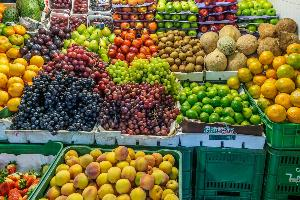apple: (157, 2, 199, 36), (236, 2, 280, 32), (116, 0, 154, 32), (200, 2, 238, 32), (225, 12, 237, 20), (157, 2, 166, 12), (165, 4, 175, 13), (181, 1, 190, 11), (240, 2, 250, 11), (148, 21, 157, 30), (190, 4, 199, 13), (134, 21, 144, 29), (199, 8, 209, 16), (209, 23, 219, 31), (267, 8, 277, 16), (213, 5, 224, 12), (251, 9, 262, 16), (148, 2, 156, 11), (113, 12, 122, 20), (174, 3, 182, 12), (199, 24, 208, 32), (138, 6, 148, 13), (129, 13, 139, 20), (155, 13, 165, 20), (263, 1, 273, 8), (270, 18, 280, 25), (247, 24, 257, 31), (128, 28, 137, 35), (188, 14, 197, 21), (165, 21, 174, 28), (216, 13, 225, 20), (120, 22, 130, 28), (171, 14, 181, 20), (204, 0, 216, 5), (229, 4, 239, 10), (206, 15, 216, 21), (188, 0, 196, 7), (157, 21, 165, 28), (190, 21, 198, 28), (255, 2, 263, 9), (258, 8, 266, 15), (253, 18, 264, 23), (145, 13, 154, 19), (114, 28, 123, 34), (141, 28, 150, 34), (181, 22, 190, 28), (188, 30, 197, 36), (156, 29, 165, 35), (229, 22, 238, 28), (122, 7, 132, 12), (248, 1, 255, 8), (180, 14, 188, 20), (164, 14, 172, 20), (243, 9, 251, 15), (128, 0, 137, 5), (198, 16, 205, 22), (219, 23, 226, 29), (236, 9, 242, 16), (120, 0, 128, 5), (180, 29, 188, 34), (137, 0, 146, 4), (143, 21, 149, 27), (259, 0, 268, 4), (244, 19, 253, 23), (122, 14, 129, 19), (174, 22, 181, 27), (112, 0, 120, 4), (114, 7, 122, 11), (251, 0, 259, 4), (132, 7, 138, 12), (139, 14, 145, 19), (130, 21, 135, 27), (264, 7, 270, 12), (114, 22, 121, 26), (224, 5, 229, 10), (237, 1, 242, 6), (150, 30, 156, 34), (166, 1, 172, 5), (217, 0, 227, 2), (227, 0, 237, 2), (208, 8, 213, 12), (250, 8, 255, 12), (195, 0, 204, 2), (241, 0, 247, 3), (146, 0, 154, 2), (138, 30, 141, 34), (264, 19, 268, 22)
apricot: (41, 144, 184, 200), (85, 162, 100, 180), (98, 184, 114, 200), (55, 170, 70, 187), (121, 166, 136, 182), (115, 179, 131, 194), (73, 173, 88, 189), (107, 167, 121, 184), (151, 170, 166, 185), (140, 174, 154, 190), (82, 186, 98, 200), (115, 146, 129, 161), (79, 154, 93, 169), (165, 180, 179, 195), (149, 185, 163, 200), (46, 186, 61, 200), (60, 183, 76, 196), (134, 157, 148, 171), (68, 165, 82, 179), (97, 173, 110, 188), (130, 188, 146, 200), (159, 161, 172, 174), (99, 161, 112, 174), (134, 172, 146, 186), (55, 164, 69, 175), (64, 150, 78, 161), (163, 154, 175, 166), (106, 152, 118, 164), (90, 149, 102, 161), (168, 167, 179, 180), (152, 153, 163, 166), (144, 155, 155, 168), (161, 189, 174, 200), (116, 161, 129, 171), (66, 157, 79, 167), (66, 193, 83, 200), (134, 151, 146, 160), (87, 182, 99, 191), (111, 184, 120, 195), (50, 176, 58, 188), (164, 194, 179, 200), (102, 194, 117, 200), (128, 148, 135, 160), (117, 194, 131, 200), (144, 166, 153, 175), (96, 155, 106, 163), (127, 187, 134, 196), (55, 196, 67, 200), (130, 180, 136, 188), (76, 190, 83, 195), (88, 178, 93, 184), (82, 167, 86, 174), (69, 180, 74, 184)
grape: (24, 57, 106, 133), (112, 58, 174, 134)
grapes: (146, 57, 179, 99), (149, 108, 179, 136), (64, 45, 95, 66), (42, 105, 65, 132), (44, 53, 72, 75), (68, 109, 96, 131), (137, 82, 160, 108), (128, 58, 150, 84), (133, 108, 155, 134), (106, 60, 129, 84), (120, 92, 140, 118), (17, 107, 40, 129), (78, 92, 103, 112), (90, 70, 111, 92), (44, 86, 64, 109), (62, 57, 85, 77), (66, 78, 94, 94), (22, 84, 41, 106), (155, 94, 175, 114), (56, 95, 78, 113), (98, 102, 119, 120), (50, 72, 70, 87), (34, 74, 51, 88), (110, 118, 128, 131), (121, 114, 126, 117)
kiwi: (157, 31, 205, 73), (185, 63, 195, 73), (196, 55, 205, 65), (192, 45, 201, 54), (186, 56, 196, 64), (166, 57, 175, 65), (170, 51, 179, 59), (189, 39, 197, 47), (171, 64, 179, 72), (165, 46, 173, 54), (167, 33, 175, 41), (182, 45, 190, 53), (195, 65, 203, 72), (179, 64, 186, 72), (158, 42, 166, 49), (152, 37, 159, 45), (174, 41, 181, 49), (179, 52, 186, 60), (196, 51, 205, 57), (165, 41, 174, 47), (161, 36, 168, 43), (167, 30, 174, 37), (173, 29, 180, 36), (186, 50, 193, 57), (161, 53, 169, 59), (175, 58, 181, 66), (183, 35, 192, 40), (197, 42, 203, 49), (159, 49, 165, 56), (157, 34, 164, 40), (180, 30, 186, 37), (183, 38, 190, 44), (152, 52, 160, 57), (174, 36, 180, 42), (179, 40, 185, 46), (175, 48, 182, 53), (182, 60, 187, 66), (185, 44, 192, 48), (195, 38, 200, 43), (193, 54, 197, 59), (179, 35, 183, 40), (168, 65, 171, 70), (189, 48, 193, 51), (163, 33, 166, 36), (173, 47, 175, 51)
lime: (176, 80, 260, 134), (233, 112, 245, 124), (242, 107, 253, 119), (232, 100, 243, 112), (187, 94, 198, 106), (202, 104, 214, 115), (222, 107, 235, 117), (180, 105, 191, 116), (250, 115, 262, 125), (186, 109, 198, 119), (222, 116, 235, 125), (200, 112, 210, 123), (192, 105, 202, 116), (221, 96, 231, 107), (197, 91, 207, 102), (211, 97, 221, 107), (209, 114, 220, 123), (192, 86, 204, 94), (215, 106, 224, 116), (218, 89, 228, 98), (209, 90, 218, 99), (220, 86, 230, 94), (179, 96, 188, 104), (202, 97, 211, 105), (176, 114, 183, 124), (241, 93, 249, 101), (190, 82, 199, 89), (225, 95, 234, 102), (232, 92, 240, 99), (241, 121, 252, 126), (195, 102, 204, 108), (183, 81, 190, 88), (211, 112, 220, 117), (182, 102, 191, 107), (234, 97, 243, 102), (230, 89, 239, 94), (184, 87, 191, 93), (205, 82, 212, 88), (200, 85, 207, 91), (187, 91, 193, 97), (180, 92, 187, 97), (207, 87, 214, 92), (217, 85, 223, 90), (220, 116, 224, 122), (215, 96, 222, 99), (212, 85, 217, 89), (206, 92, 209, 97), (235, 123, 240, 125)
melon: (202, 29, 258, 71), (200, 31, 220, 53), (219, 25, 242, 42), (217, 36, 237, 55)
orange: (236, 52, 300, 124), (0, 46, 44, 106), (268, 104, 287, 123), (276, 77, 296, 94), (276, 93, 294, 110), (261, 82, 278, 99), (277, 64, 295, 79), (258, 97, 275, 112), (259, 50, 275, 65), (7, 83, 24, 97), (8, 63, 25, 77), (287, 106, 300, 124), (238, 68, 254, 82), (6, 97, 20, 112), (287, 53, 300, 69), (6, 76, 23, 88), (273, 56, 287, 70), (21, 70, 36, 83), (250, 61, 264, 74), (249, 85, 262, 99), (253, 74, 268, 86), (8, 34, 24, 45), (228, 76, 241, 89), (30, 55, 44, 67), (291, 90, 300, 108), (287, 43, 300, 55), (247, 57, 260, 69), (266, 67, 279, 79), (13, 24, 26, 35), (0, 91, 9, 106), (0, 42, 12, 53), (1, 27, 14, 37), (13, 58, 27, 67), (25, 65, 38, 74), (0, 64, 9, 76), (0, 72, 7, 87), (292, 69, 300, 81), (245, 80, 255, 89), (0, 35, 9, 45), (265, 78, 277, 84), (0, 59, 9, 67), (295, 75, 300, 88), (264, 64, 273, 71), (22, 33, 30, 40), (4, 25, 13, 29), (0, 23, 6, 29), (284, 53, 289, 59), (12, 45, 20, 48)
peach: (109, 32, 158, 66), (125, 32, 135, 42), (132, 39, 143, 48), (149, 45, 159, 54), (140, 46, 150, 55), (126, 52, 136, 61), (107, 49, 117, 58), (129, 46, 139, 55), (141, 33, 150, 42), (114, 36, 123, 45), (120, 45, 129, 54), (145, 39, 155, 47), (115, 52, 125, 60), (108, 43, 118, 51), (122, 39, 131, 47), (121, 30, 128, 39), (136, 53, 146, 59), (123, 60, 130, 67), (150, 33, 158, 39), (109, 58, 117, 64), (146, 54, 152, 60), (117, 47, 121, 53)
pear: (63, 26, 116, 58), (87, 40, 98, 52), (76, 34, 86, 45), (101, 36, 112, 46), (97, 46, 107, 56), (90, 32, 100, 42), (101, 27, 111, 37), (77, 23, 86, 34), (98, 38, 107, 49), (86, 25, 95, 35), (92, 28, 102, 37), (100, 53, 109, 62), (71, 30, 80, 39), (109, 33, 116, 43), (82, 40, 90, 48), (82, 30, 90, 37), (64, 40, 70, 48), (69, 39, 76, 45), (61, 48, 67, 53)
plum: (23, 24, 72, 62), (19, 46, 28, 55), (57, 30, 65, 39), (24, 52, 32, 61), (42, 55, 50, 64), (49, 50, 58, 58), (53, 40, 62, 48), (32, 44, 42, 51), (51, 26, 59, 34), (62, 26, 71, 33), (40, 48, 49, 55), (48, 44, 57, 51), (34, 38, 43, 45), (31, 50, 41, 56), (52, 35, 60, 42), (46, 30, 54, 37), (43, 35, 51, 42), (26, 42, 34, 49), (38, 28, 46, 34), (45, 41, 53, 47), (64, 33, 71, 39), (38, 33, 45, 39), (24, 38, 31, 44), (49, 25, 55, 31), (31, 37, 37, 43), (33, 33, 39, 37), (41, 45, 47, 49), (61, 40, 64, 47), (50, 37, 54, 42), (30, 48, 33, 52)
strawberry: (0, 150, 46, 200), (7, 188, 21, 200), (5, 161, 17, 174), (26, 181, 38, 194), (0, 182, 10, 197), (25, 175, 36, 187), (4, 179, 15, 191), (14, 179, 26, 190), (9, 174, 20, 182), (19, 188, 28, 197), (42, 165, 49, 174), (22, 173, 29, 180), (33, 178, 41, 183), (21, 195, 28, 200), (0, 196, 4, 200)
